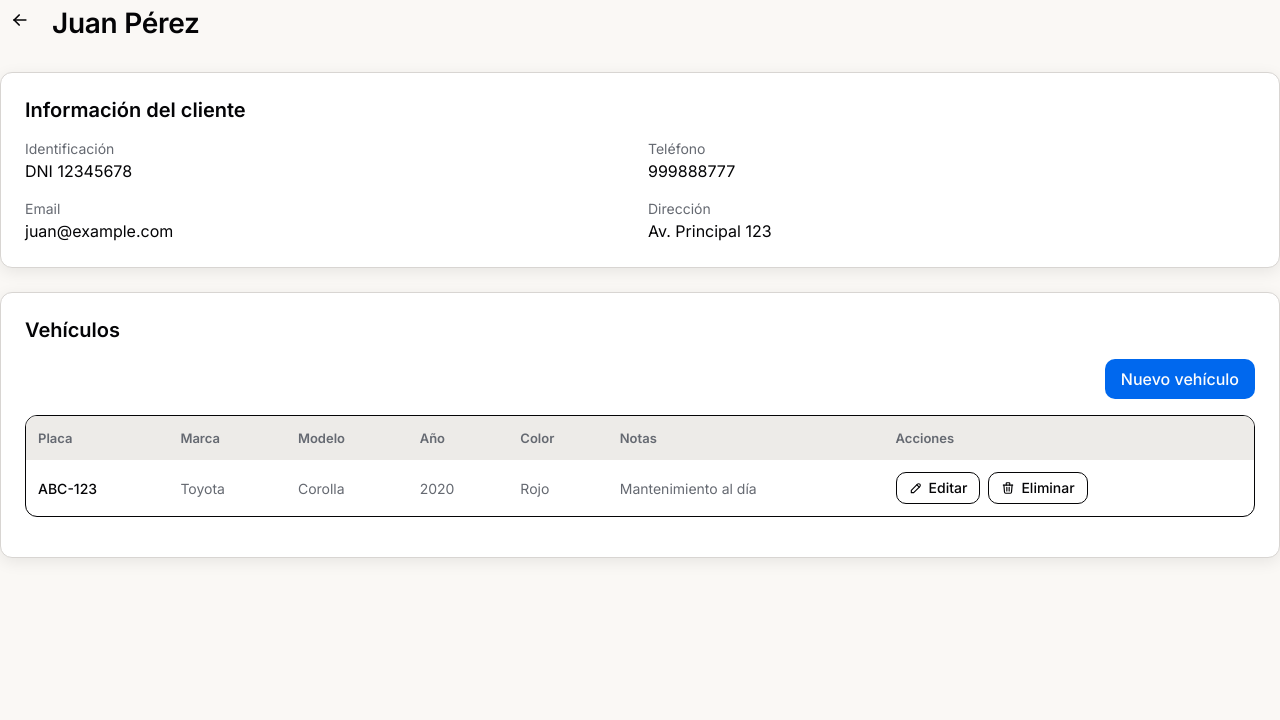
Test: ClientDetailPage › opens the edit form with vehicle values
Click the button with aria-label "Editar ABC-123" at (938, 488), box [896, 472, 980, 504]
(page scrolled)
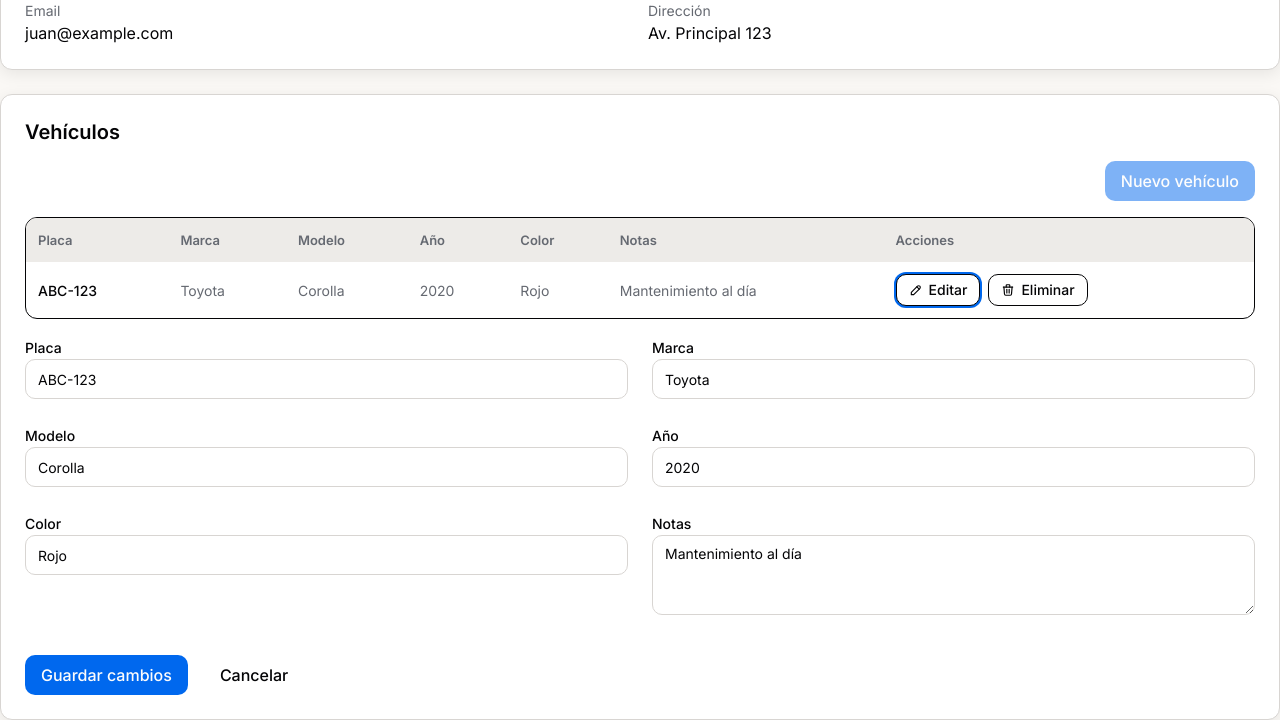
Check: the field showing "ABC-123" is shown, box [25, 359, 628, 399]
Check: the field showing "Toyota" is shown, box [652, 359, 1255, 399]
Check: the button "Guardar cambios" is shown, box [25, 655, 188, 695]
